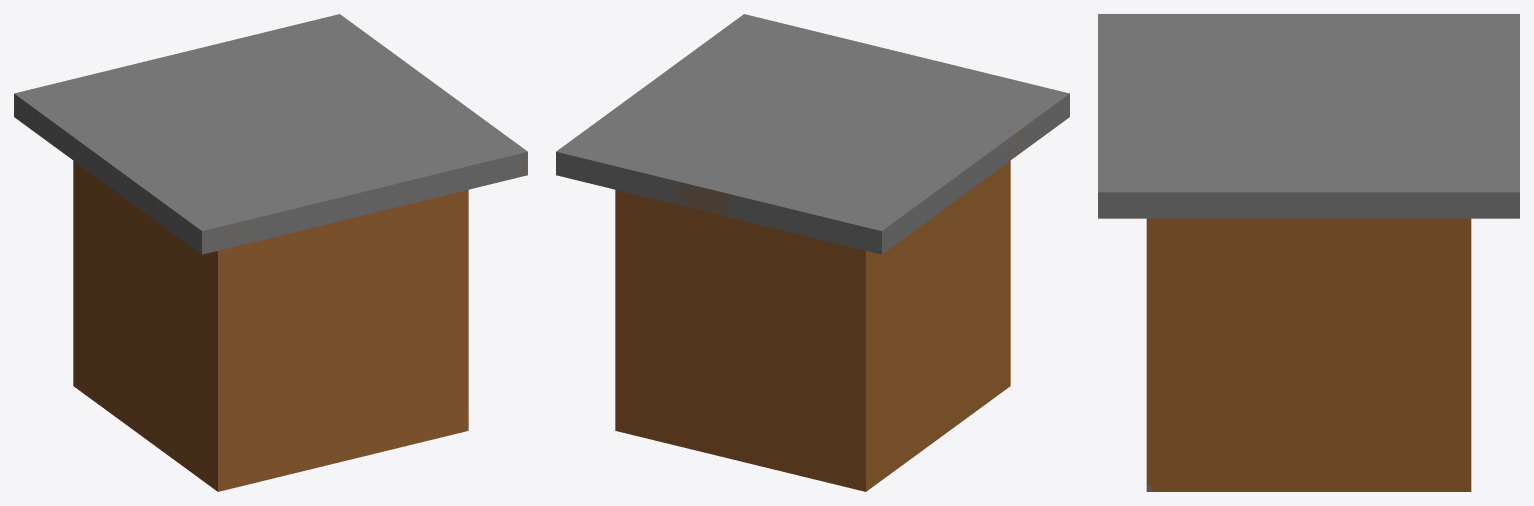
Rendered from counter.glb.
3 views of the same model, side by side, from view 1: azimuth 30°, elevation 25°; view 2: azimuth 150°, elevation 25°; view 3: azimuth 270°, elevation 25° (orthographic). The views are drawn at different scales.
Parts seen in each view (by area): view 1: Cube; view 2: Cube; view 3: Cube.
Boxes of the visible parts, x1,y1,x2,y2 form: Cube: (14, 14, 527, 491); Cube: (556, 14, 1069, 491); Cube: (1098, 14, 1519, 491).
Bounding box in the file's own units: 2.6 × 2.18 × 2.6.
1 material, 1 textured.
